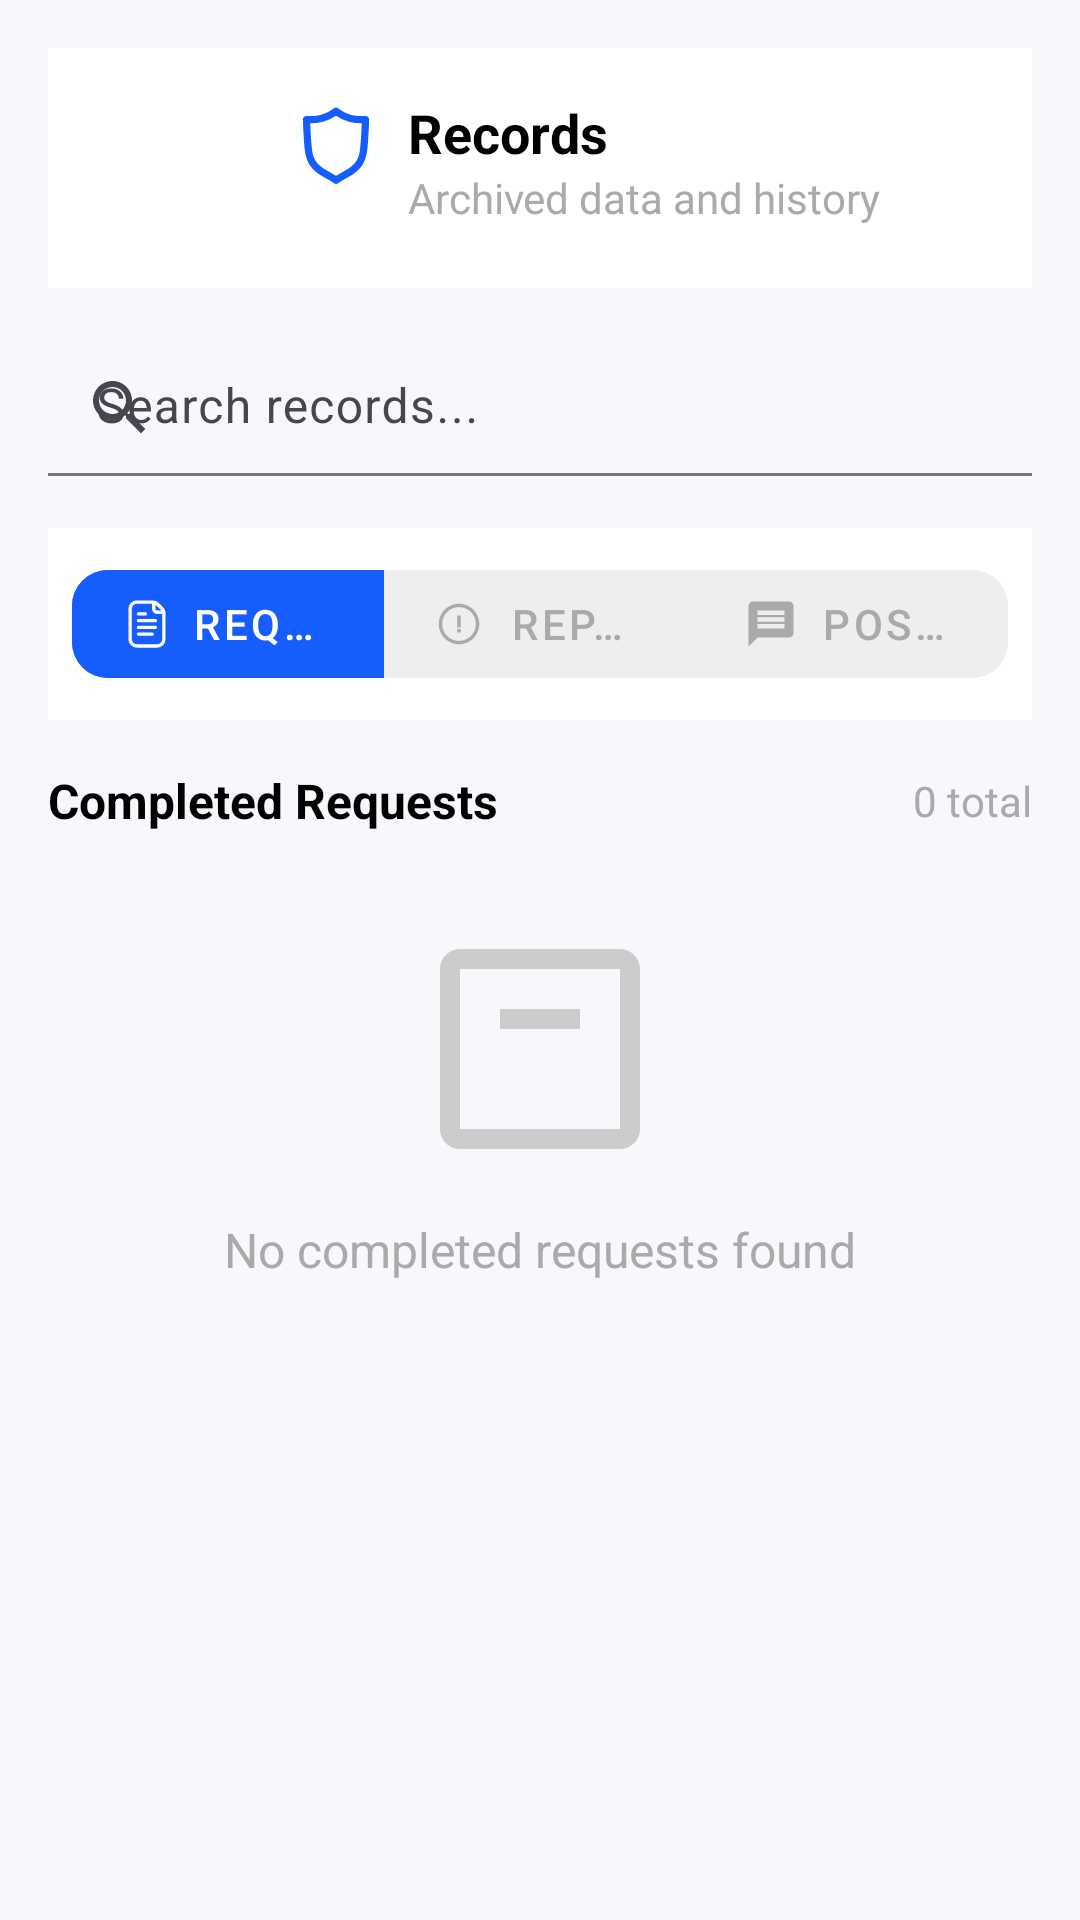

Icon bounding boxes for this 1080x1920 phone screenshot, format (x1, y1, x2, y2):
archive box: (440, 949, 640, 1149)
